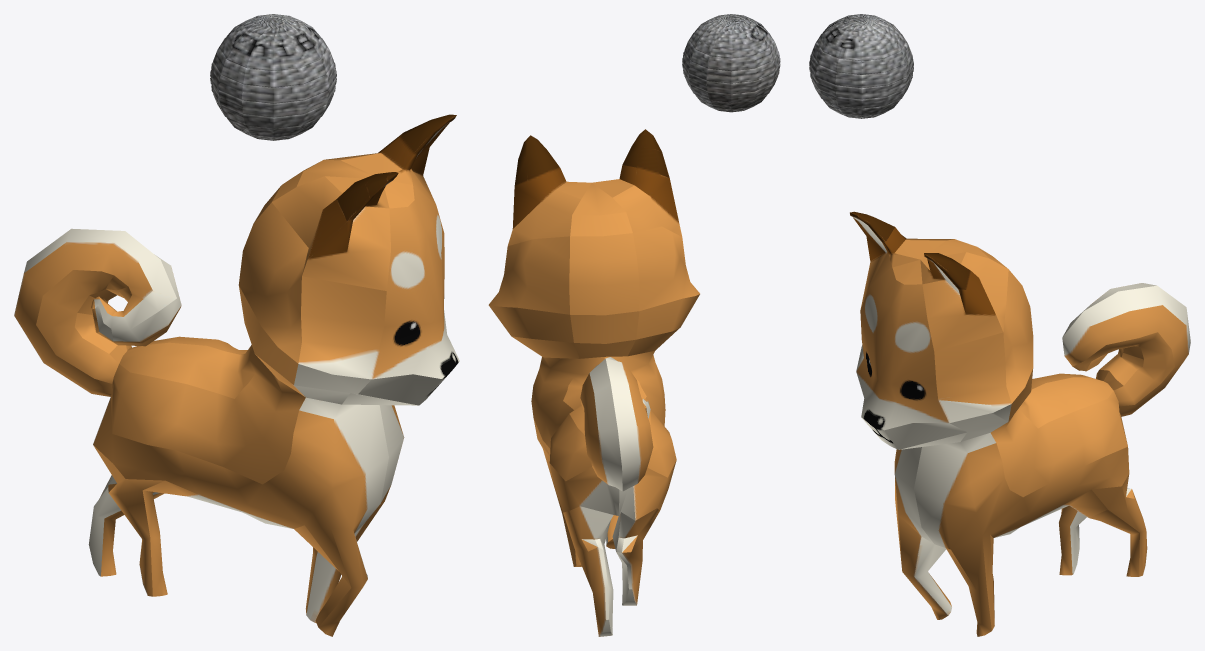
The model's file is ball_frame7.obj.
3 views of the same model, side by side, from view 1: azimuth 30°, elevation 25°; view 2: azimuth 150°, elevation 25°; view 3: azimuth 270°, elevation 25° (orthographic). The views are drawn at different scales.
Parts seen in each view (by area): view 1: walk1:newRigging:BodzL1, pSphere1; view 2: walk1:newRigging:BodzL1, pSphere1; view 3: walk1:newRigging:BodzL1, pSphere1.
Boxes of the visible parts, <box> form: walk1:newRigging:BodzL1: <box>14,114,459,636</box>; pSphere1: <box>210,14,336,140</box>; walk1:newRigging:BodzL1: <box>488,129,699,636</box>; pSphere1: <box>682,14,780,112</box>; walk1:newRigging:BodzL1: <box>850,211,1190,636</box>; pSphere1: <box>809,14,913,118</box>.
Bounding box in the file's own units: 4.93 × 10.76 × 6.56.
2 materials, 2 textured.
